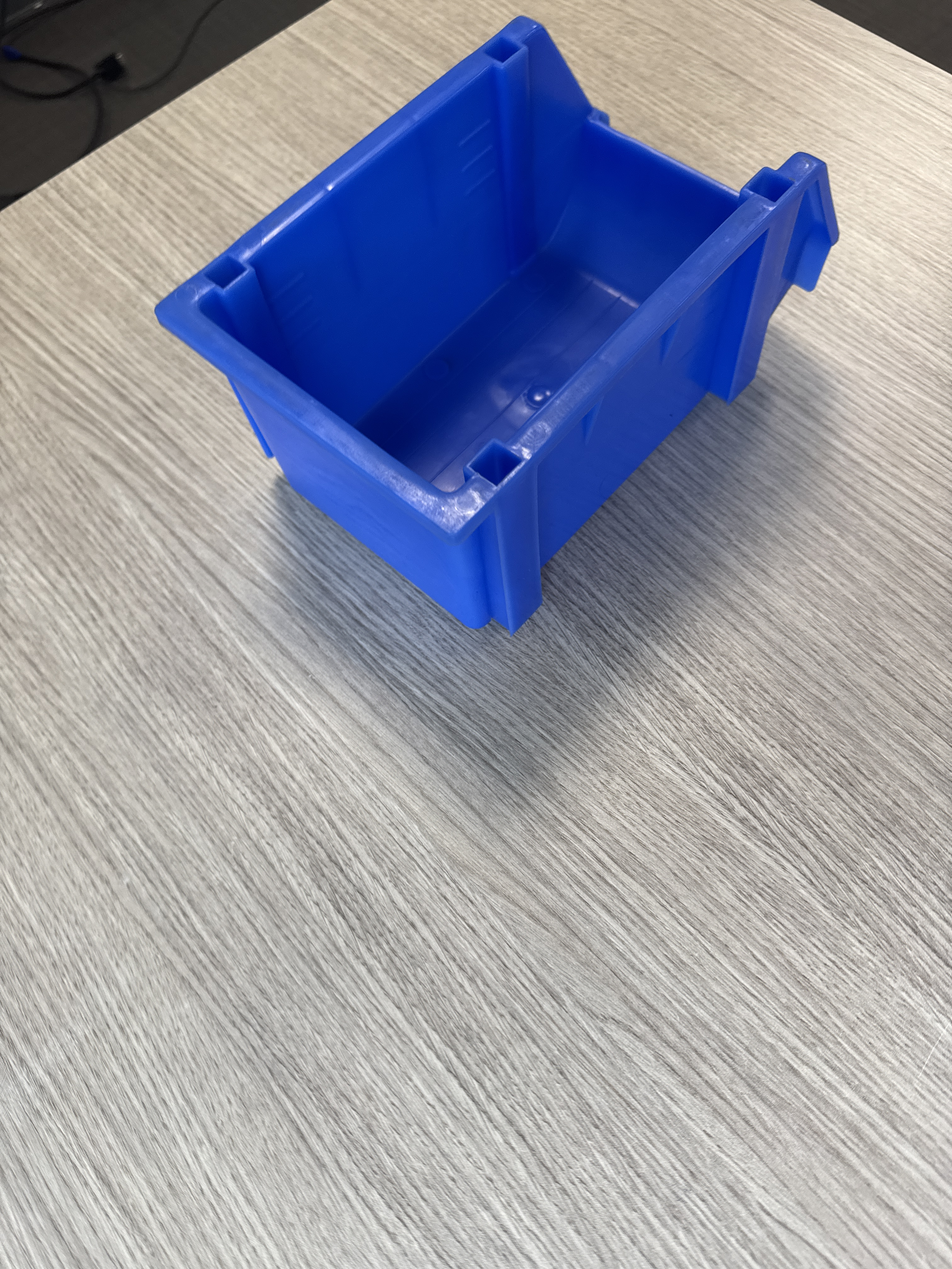Bin Boundary: (195, 0, 752, 532)
